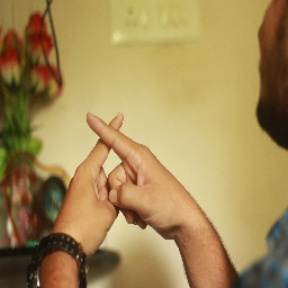X: (66, 100, 162, 217)
